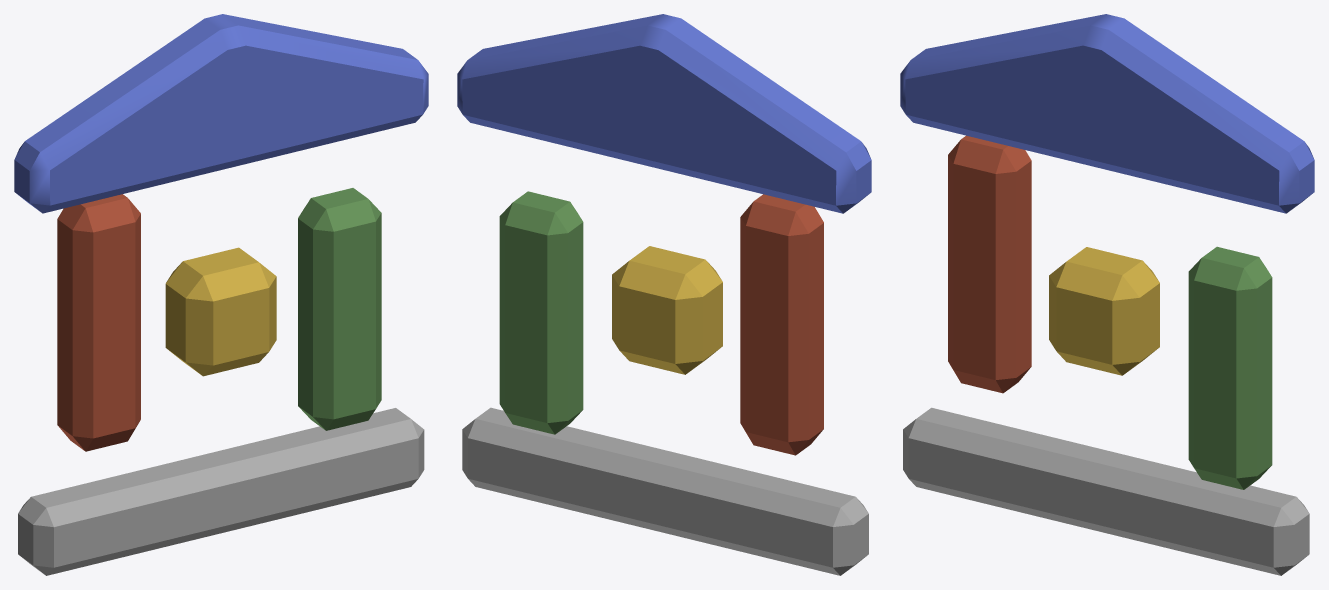
The model's file is Akademi.fbx.
3 views of the same model, side by side, from view 1: azimuth 30°, elevation 25°; view 2: azimuth 150°, elevation 25°; view 3: azimuth 330°, elevation 25° (orthographic).
Visible parts, largest first — view 1: polySurface4; view 2: polySurface4; view 3: polySurface4.
Part boxes in pixels (x1,y1,x2,y2): polySurface4: [14, 14, 428, 575]; polySurface4: [457, 14, 871, 575]; polySurface4: [900, 14, 1314, 575].
Bounding box in the file's own units: 2.7 × 3.26 × 0.4722.
